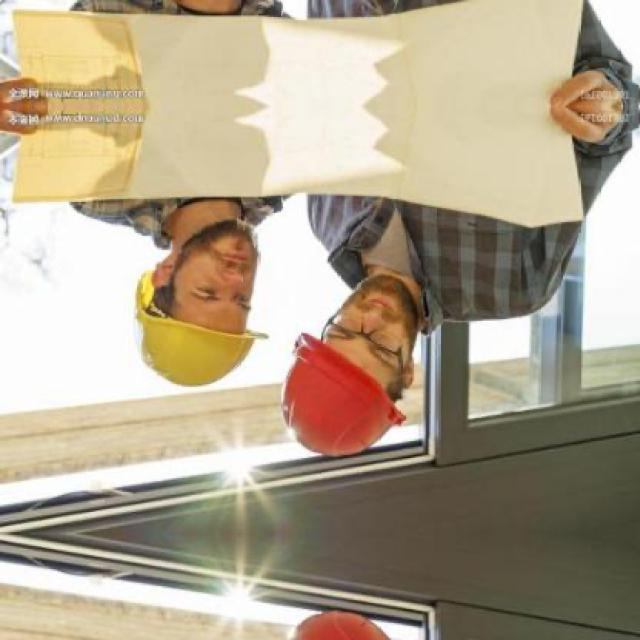con casco: (256, 339, 424, 479), (124, 276, 256, 402)
